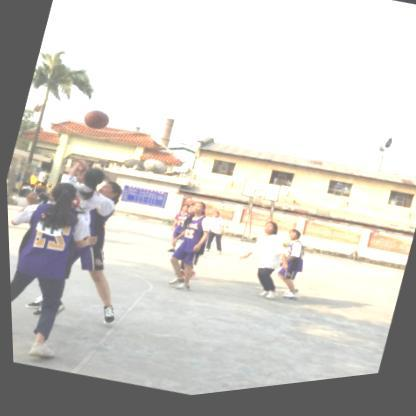basketball: (79, 107, 110, 136)
